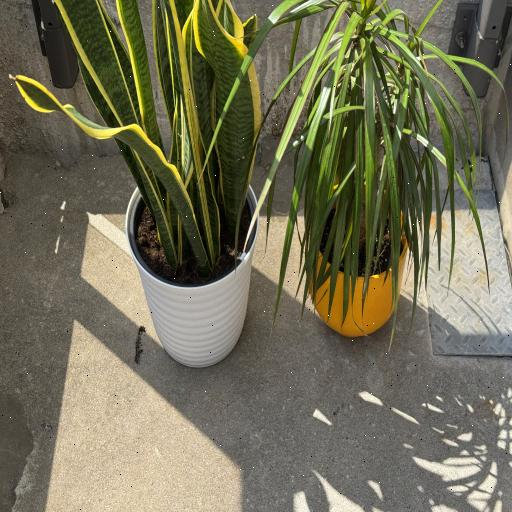Plant Pot: (126, 177, 260, 369), (308, 182, 408, 338)
